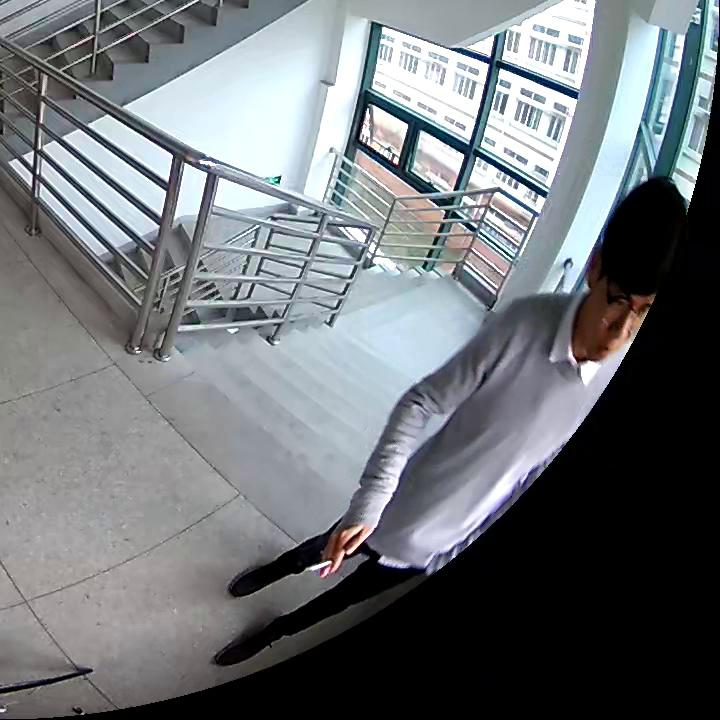handsmoke: (308, 523, 384, 576)
mouthwithoutsmoke: (576, 171, 687, 361)
